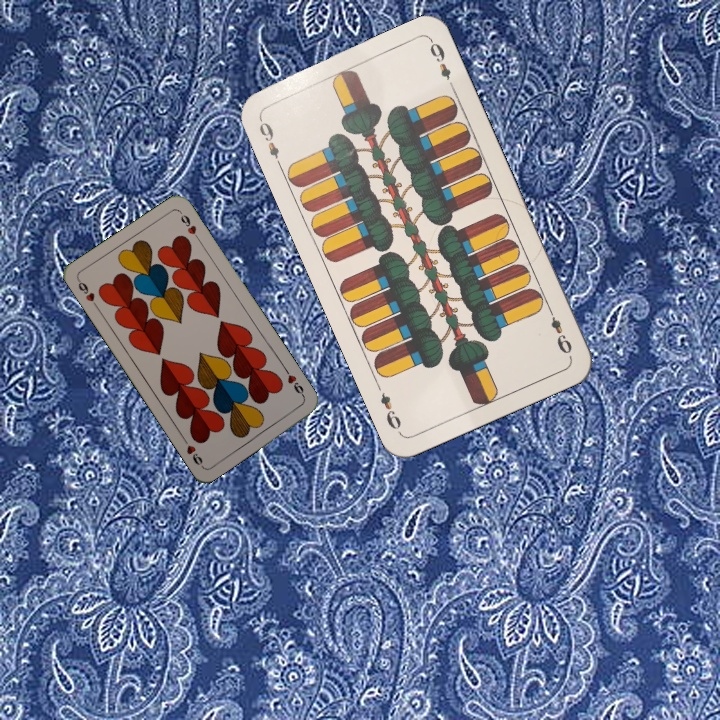E9: (254, 113, 285, 170), (544, 303, 575, 357)
H9: (281, 365, 308, 401), (74, 276, 101, 311)
